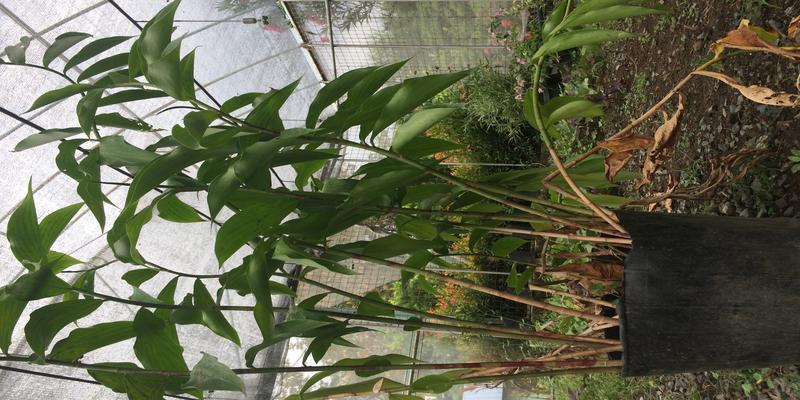Insulin: (27, 62, 623, 400)
